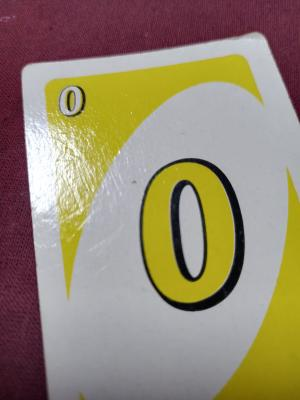num_0: (45, 78, 102, 135)
